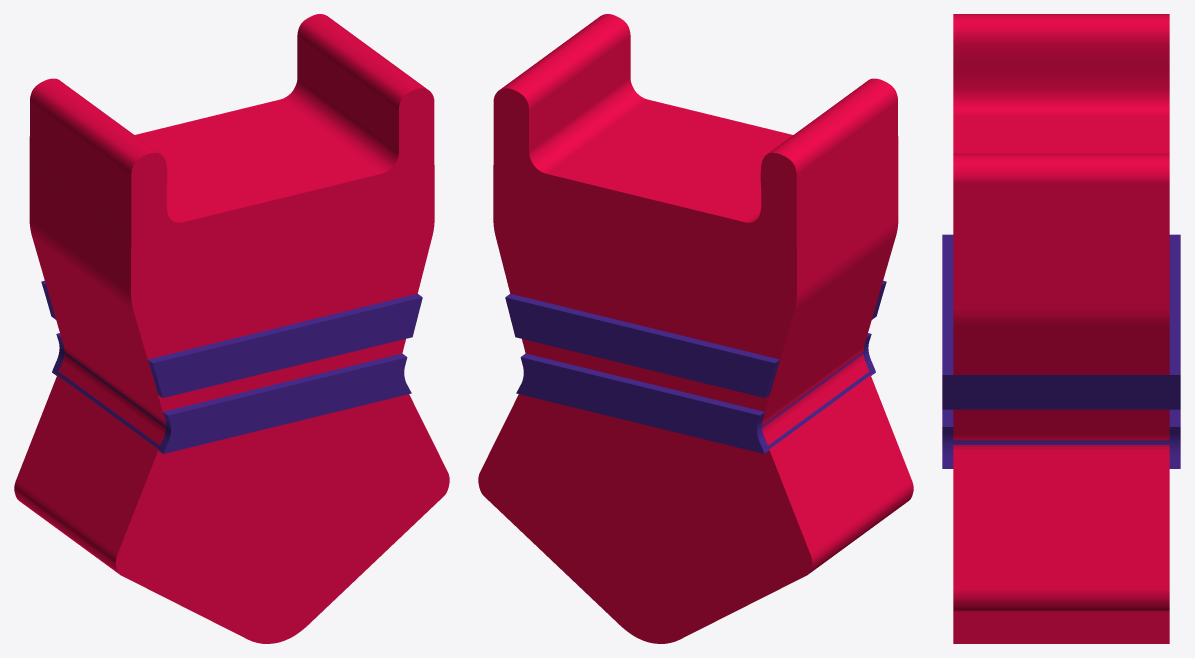
3 views of the same model, side by side, from view 1: azimuth 30°, elevation 25°; view 2: azimuth 150°, elevation 25°; view 3: azimuth 270°, elevation 25° (orthographic). The views are drawn at different scales.
Visible parts, largest first — view 1: U+1FA71_layer00_obj00, U+1FA71_layer01_obj00; view 2: U+1FA71_layer00_obj00, U+1FA71_layer01_obj00; view 3: U+1FA71_layer00_obj00, U+1FA71_layer01_obj00.
Boxes of the visible parts, x1=… form: U+1FA71_layer00_obj00: x1=14, y1=14, x2=449, y2=643; U+1FA71_layer01_obj00: x1=41, y1=280, x2=422, y2=453; U+1FA71_layer00_obj00: x1=478, y1=14, x2=913, y2=643; U+1FA71_layer01_obj00: x1=505, y1=280, x2=886, y2=453; U+1FA71_layer00_obj00: x1=953, y1=14, x2=1169, y2=643; U+1FA71_layer01_obj00: x1=942, y1=234, x2=1180, y2=468.
Bounding box in the file's own units: 0.3802 × 0.566 × 0.22.
